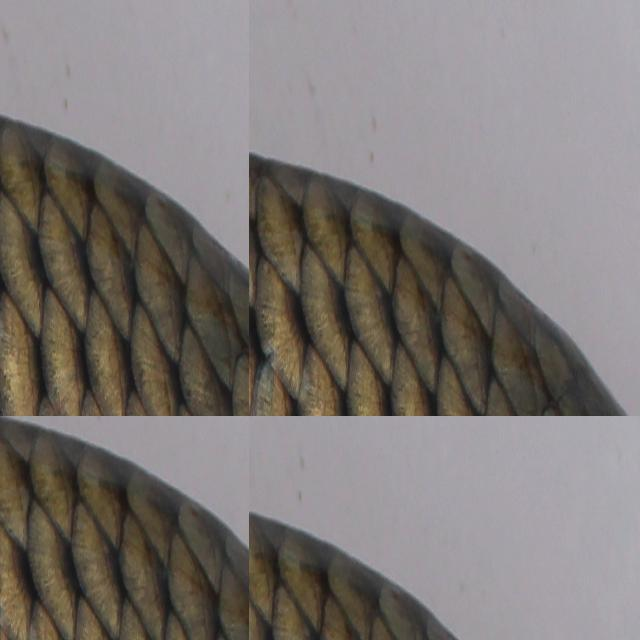fish: (249, 0, 640, 416), (249, 416, 640, 640)
